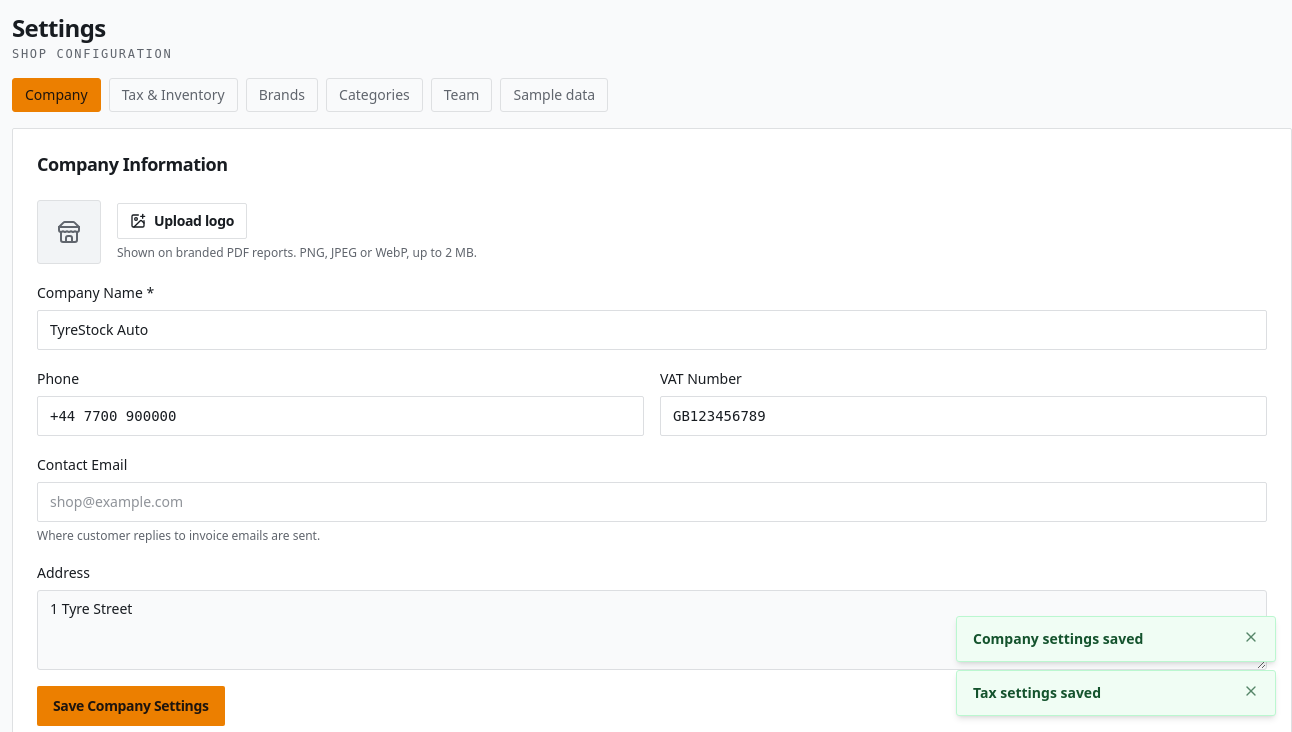
Test: SettingsPage › renders category list in the Categories tab
The image size is (1292, 732).
Click the tab "Categories" at (374, 95), box [326,78,423,112]
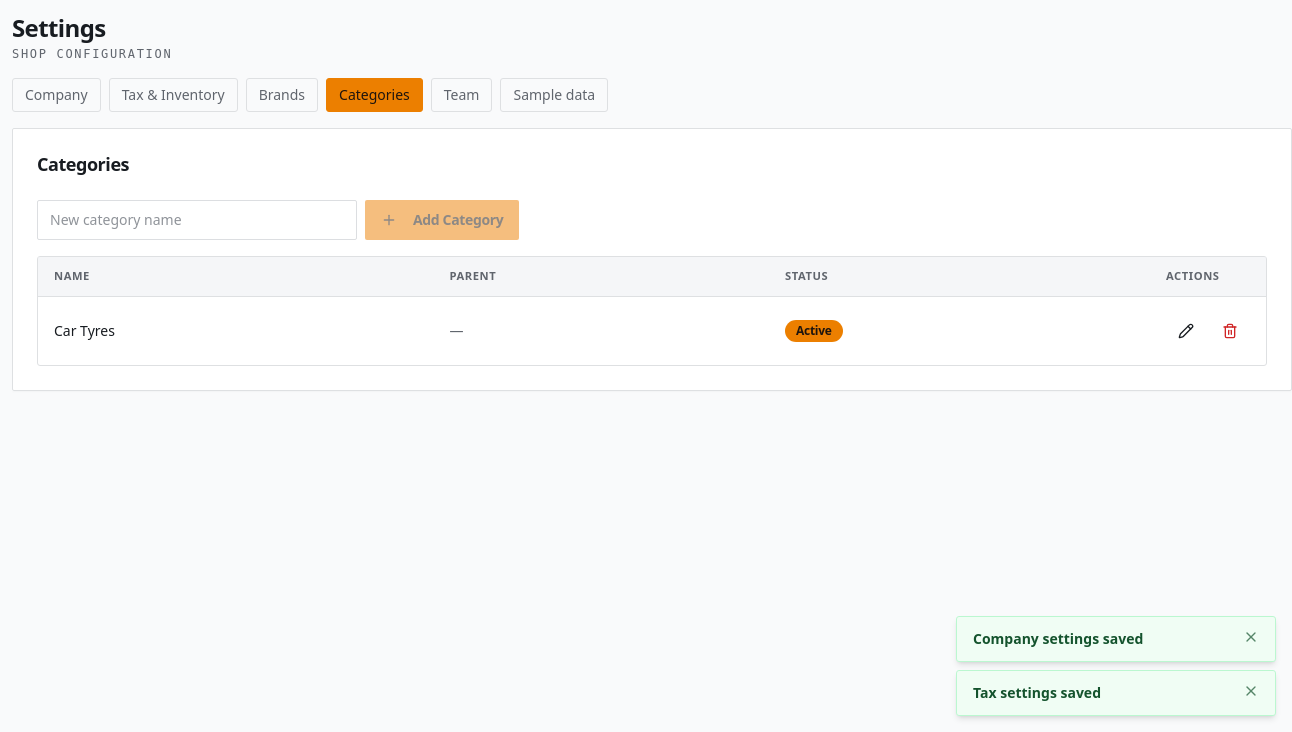
Expected: the text "Car Tyres" is shown, [54,321,115,340]
